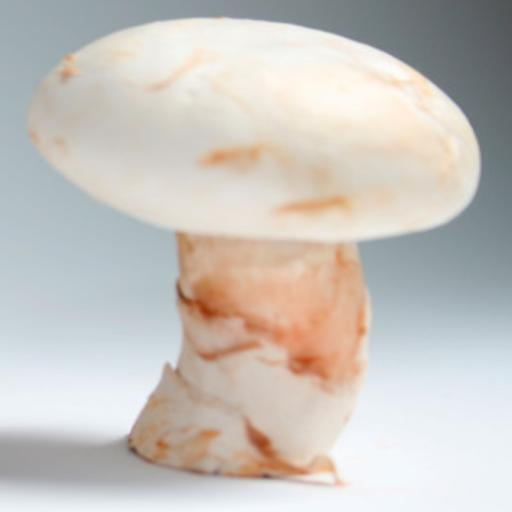mushroom: (17, 10, 495, 506)
